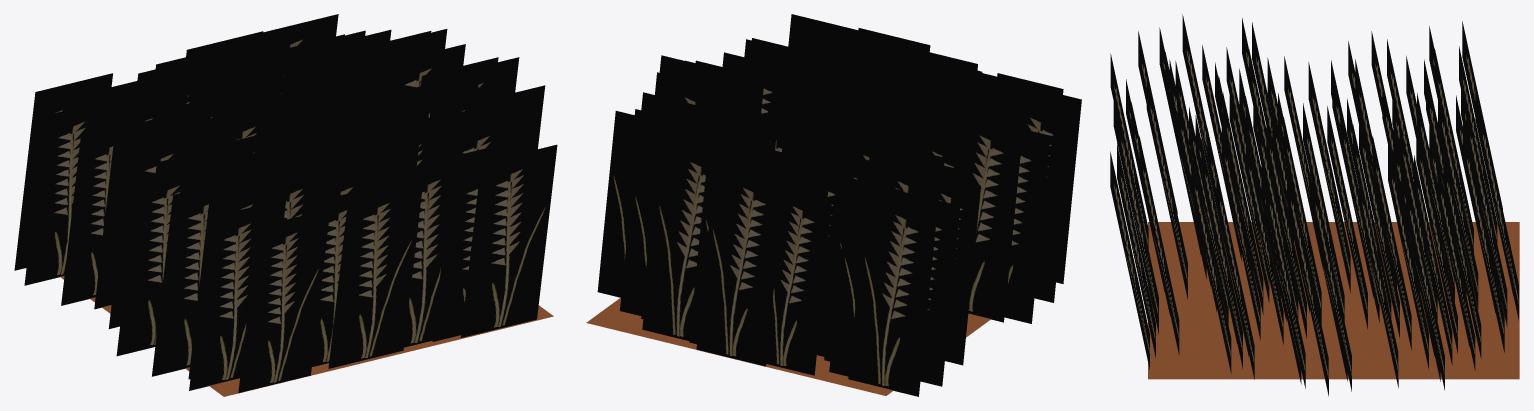
Rendered from CultivoDefinitivo.fbx.
The picture shows the model from 3 angles, left to right: view 1: azimuth 30°, elevation 25°; view 2: azimuth 150°, elevation 25°; view 3: azimuth 270°, elevation 25°; orthographic projection. The views are drawn at different scales.
Parts seen in each view (by area): view 1: Plane.009; view 2: Plane.009; view 3: Plane.009.
Part boxes in pixels (x1,y1,x2,y2): Plane.009: (14,14,557,396); Plane.009: (586,14,1081,396); Plane.009: (1110,14,1519,396).
Bounding box in the file's own units: 123 × 57.81 × 110.
2 materials, 1 textured.
